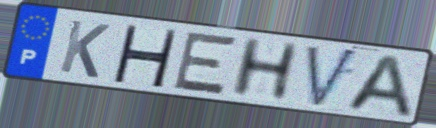A: (340, 52, 416, 120)
E: (170, 29, 241, 97)
H: (226, 36, 304, 102), (110, 22, 181, 90)
K: (56, 17, 112, 81)
V: (304, 43, 362, 112)
